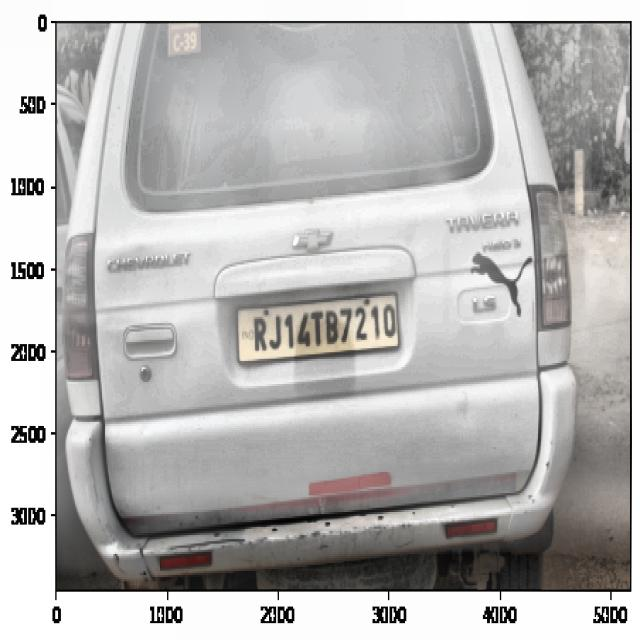license_plate: (245, 300, 401, 356)
